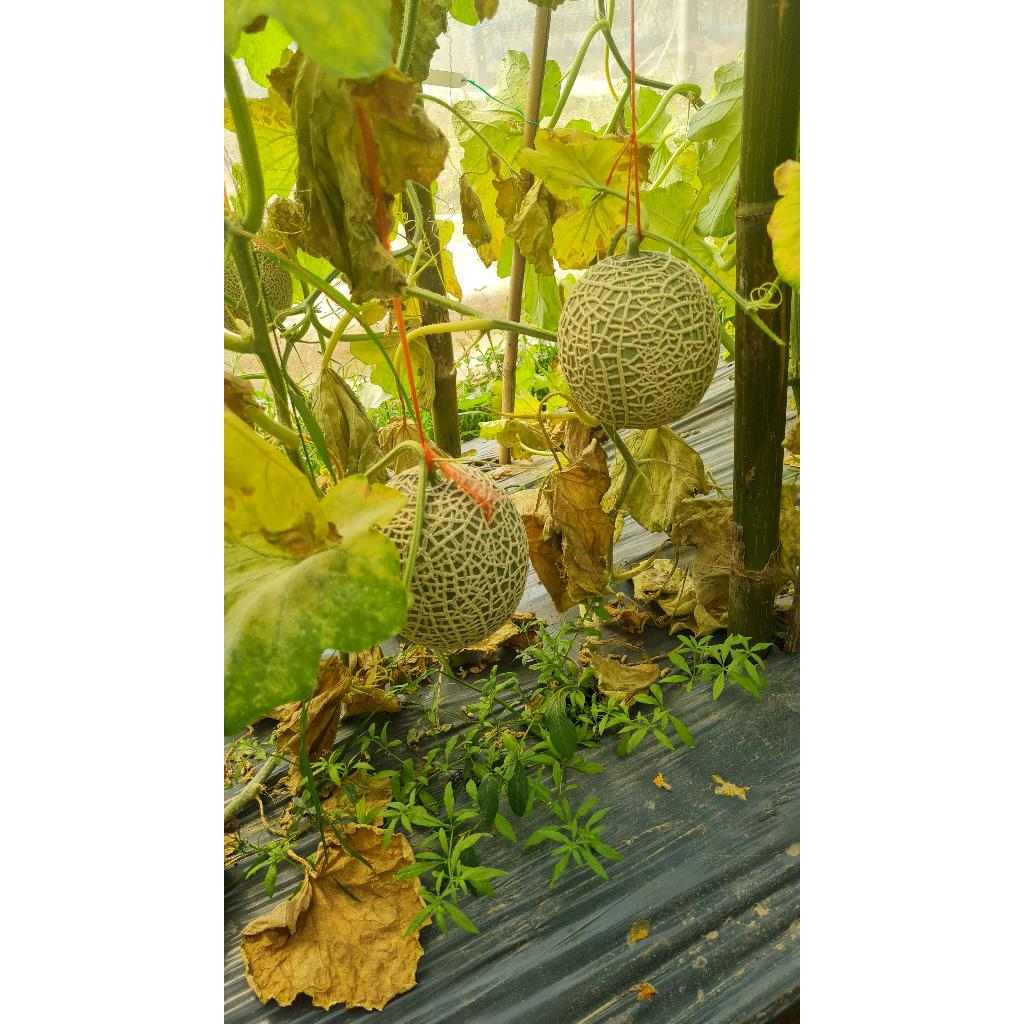melon: (558, 250, 720, 430), (400, 476, 530, 652), (384, 468, 418, 570)
